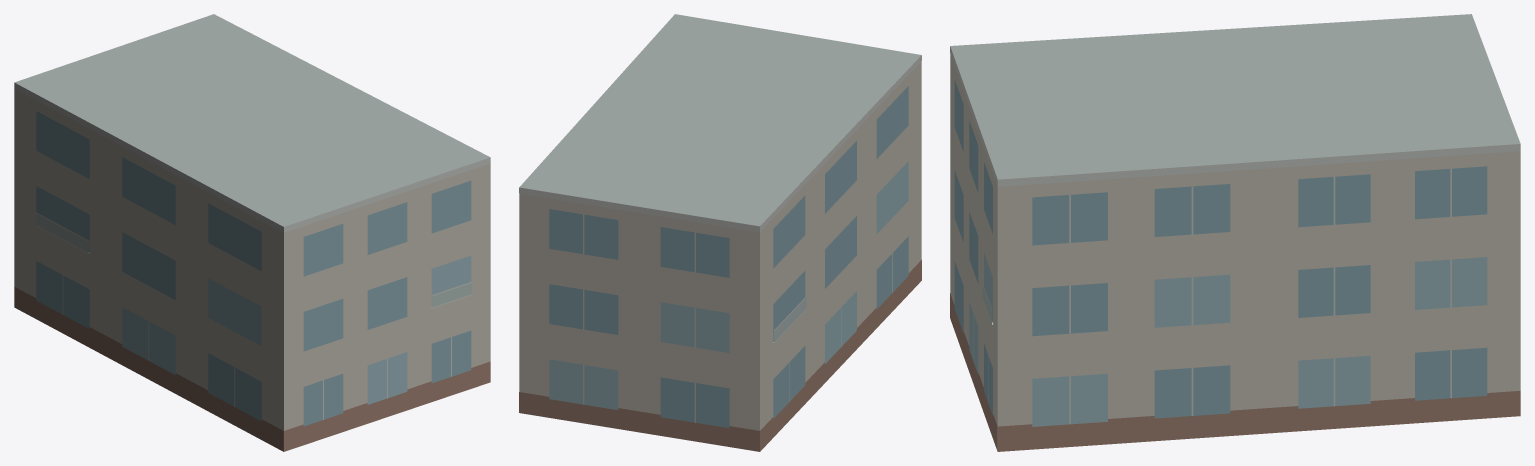
The model's file is survey-upis-32887226.glb.
The picture shows the model from 3 angles, left to right: view 1: azimuth 30°, elevation 25°; view 2: azimuth 150°, elevation 25°; view 3: azimuth 270°, elevation 25°; orthographic projection. The views are drawn at different scales.
Visible parts, largest first — view 1: survey-upis-32887226.tmp; view 2: survey-upis-32887226.tmp; view 3: survey-upis-32887226.tmp.
Boxes of the visible parts, x1,y1,x2,y2 form: survey-upis-32887226.tmp: (14, 14, 490, 451); survey-upis-32887226.tmp: (519, 14, 921, 451); survey-upis-32887226.tmp: (950, 14, 1520, 451).
Size of the model in its own units: 11.95 by 9.15 by 17.39.
